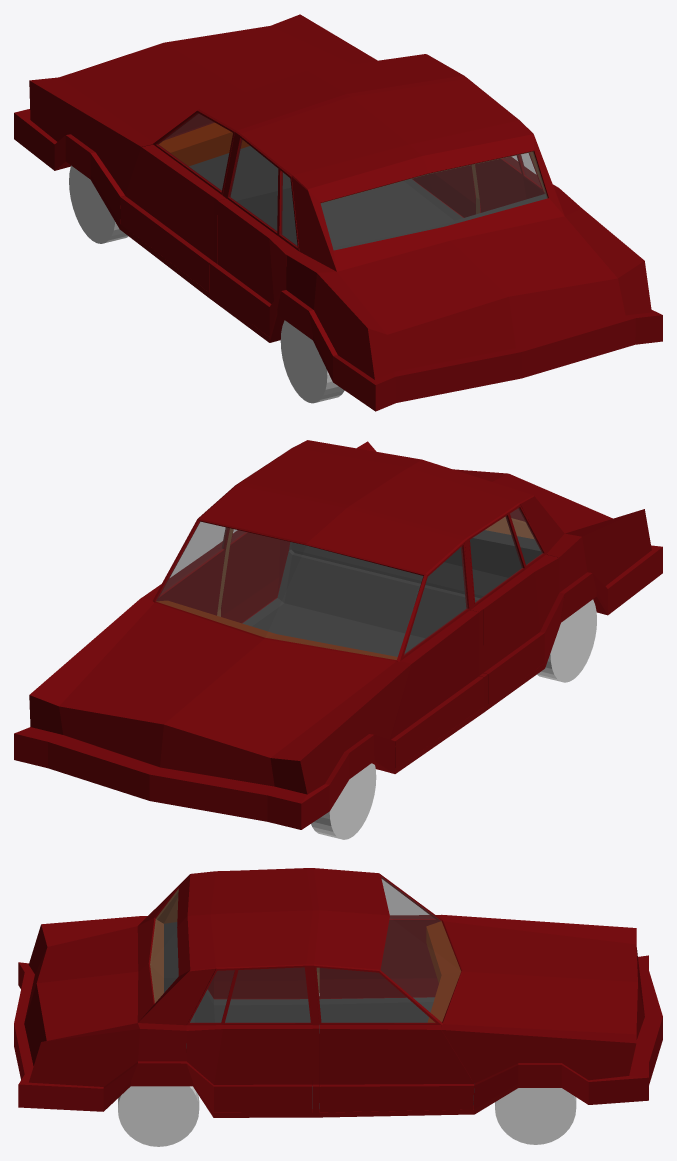
Rendered from Car2.fbx.
3 renders of one model, top to bottom at view 1: azimuth 30°, elevation 25°; view 2: azimuth 150°, elevation 25°; view 3: azimuth 270°, elevation 25°, orthographic. The views are drawn at different scales.
Parts seen in each view (by area): view 1: Car, Door1, Door2, Wheel1, Wheel2; view 2: Car, Door1, Door2, Wheel1, Wheel2; view 3: Car, Door2, Door1, Wheel1, Wheel2.
Part boxes in pixels (x1,y1,x2,y2): Car: (14,14,662,411); Door1: (213,135,558,336); Door2: (120,110,475,291); Wheel1: (280,320,344,403); Wheel2: (69,165,128,243); Car: (14,440,662,829); Door1: (218,504,564,703); Door2: (142,522,483,767); Wheel1: (537,599,596,682); Wheel2: (311,763,376,839); Car: (14,868,662,1117); Door2: (314,876,474,1112); Door1: (186,965,312,1112); Wheel1: (118,1086,199,1146); Wheel2: (495,1088,576,1144).
Size of the model in its own units: 208 by 142 by 466.
